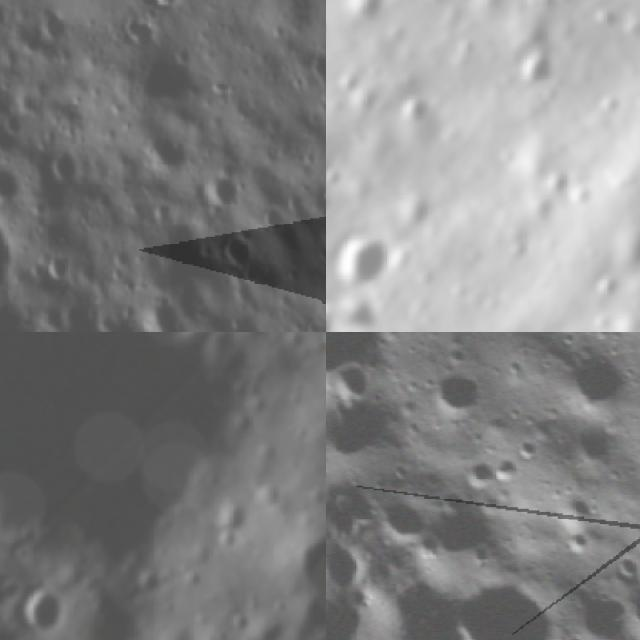crater: (0, 332, 326, 620), (435, 558, 578, 640), (259, 475, 326, 620), (326, 373, 411, 485), (545, 336, 640, 433), (326, 332, 424, 426), (326, 215, 406, 306), (416, 356, 499, 440), (496, 24, 570, 98), (366, 485, 439, 559), (556, 418, 628, 489), (558, 578, 640, 640), (7, 571, 75, 639), (332, 270, 397, 330), (326, 354, 384, 419), (382, 76, 441, 134), (326, 0, 405, 41), (544, 486, 600, 541), (453, 453, 502, 501), (0, 181, 17, 309), (611, 575, 640, 640), (0, 551, 26, 622), (559, 526, 594, 562), (626, 422, 640, 476), (147, 0, 190, 9)
